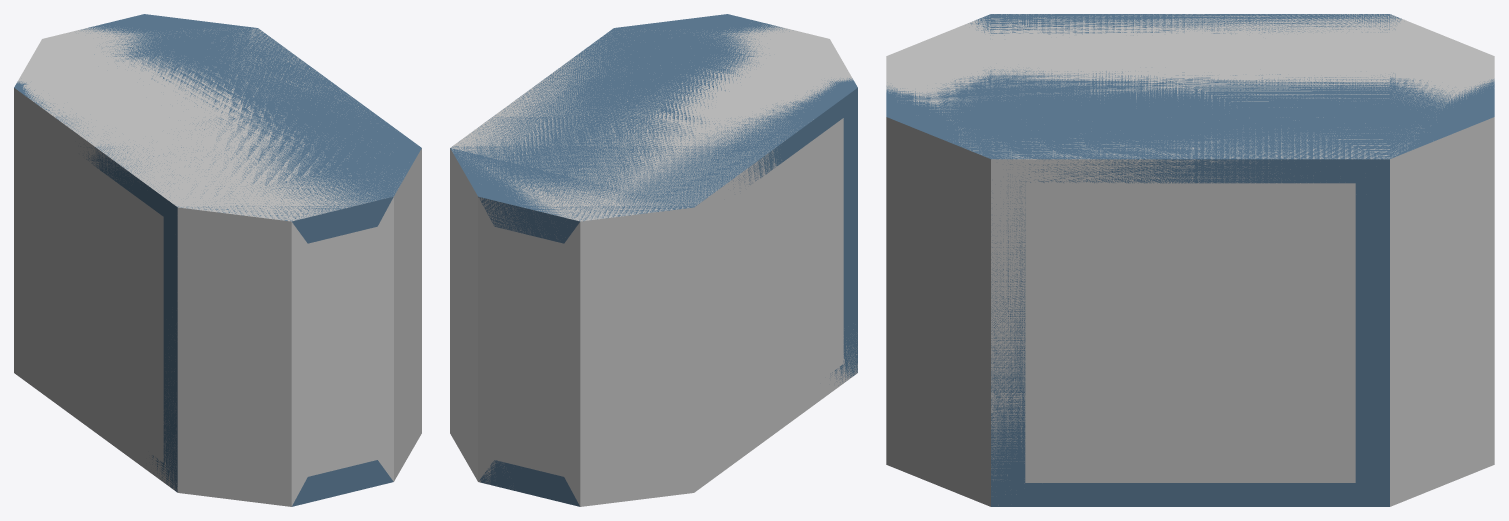
The model's file is SM_Building_12_Base.fbx.
3 views of the same model, side by side, from view 1: azimuth 30°, elevation 25°; view 2: azimuth 150°, elevation 25°; view 3: azimuth 270°, elevation 25° (orthographic). The views are drawn at different scales.
Visible parts, largest first — view 1: SM_Building_12_Base_ConvexHulls, SM_Building_12_Base; view 2: SM_Building_12_Base_ConvexHulls, SM_Building_12_Base; view 3: SM_Building_12_Base_ConvexHulls, SM_Building_12_Base.
Part boxes in pixels (x1=…): SM_Building_12_Base_ConvexHulls: x1=14, y1=25, x2=421, y2=506; SM_Building_12_Base: x1=14, y1=14, x2=421, y2=506; SM_Building_12_Base_ConvexHulls: x1=450, y1=24, x2=857, y2=506; SM_Building_12_Base: x1=450, y1=14, x2=857, y2=506; SM_Building_12_Base_ConvexHulls: x1=886, y1=14, x2=1494, y2=506; SM_Building_12_Base: x1=886, y1=14, x2=1494, y2=506.
Bounding box in the file's own units: 448 × 792 × 500.
Materials: 2 (1 with a texture image).
